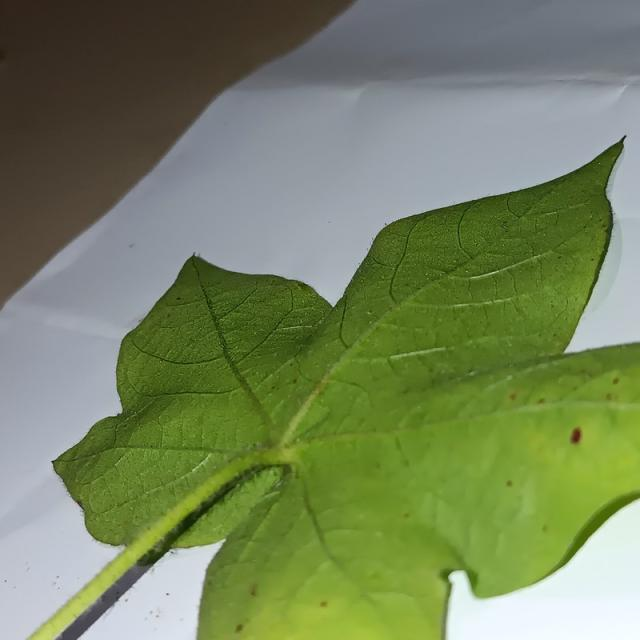Bacterial_Blight: (571, 420, 587, 452), (311, 378, 325, 393), (250, 583, 258, 595), (581, 369, 591, 378), (509, 391, 518, 400), (235, 624, 243, 633), (613, 377, 620, 385), (606, 393, 613, 401), (76, 500, 83, 508), (506, 480, 513, 487), (320, 601, 327, 608), (542, 525, 549, 532), (604, 224, 610, 232), (537, 398, 545, 404), (375, 462, 381, 470), (403, 513, 410, 519), (292, 378, 298, 384), (271, 385, 277, 391), (207, 580, 213, 586), (602, 222, 607, 229), (598, 217, 603, 224), (176, 297, 182, 301), (557, 255, 562, 259), (590, 257, 595, 261)
Cotton: (30, 139, 639, 639)
